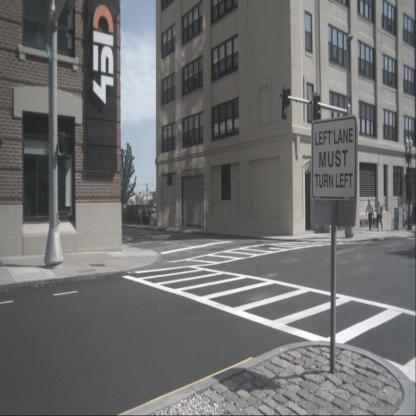human-pedestrian-adult: (365, 198, 375, 230), (376, 201, 384, 232), (406, 199, 412, 228), (400, 200, 406, 228), (409, 201, 414, 226), (412, 202, 415, 226)
vehicle-bicycle: (391, 212, 401, 232), (402, 213, 412, 231)
